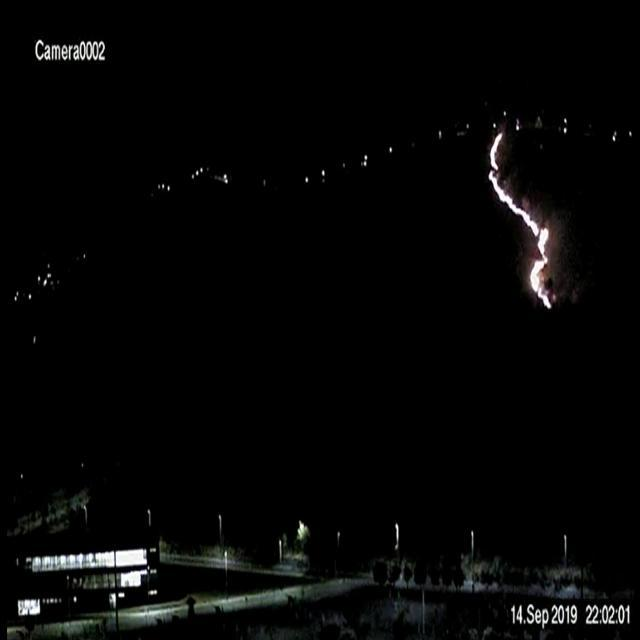Fire: (482, 132, 574, 312)
